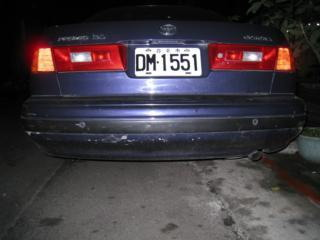plate: (132, 45, 203, 79)
